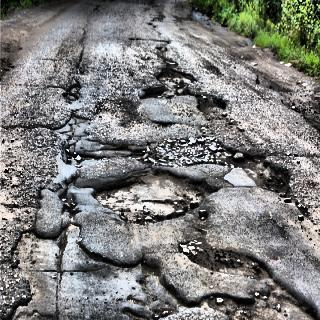alligator-crack: (160, 136, 211, 162)
crack: (68, 11, 114, 71), (4, 63, 56, 104), (4, 114, 49, 145)
pothole: (12, 201, 165, 320), (92, 168, 219, 216), (176, 233, 288, 279), (201, 277, 319, 320), (223, 146, 302, 207), (148, 62, 201, 106), (187, 94, 240, 120), (53, 100, 89, 132), (140, 35, 187, 59), (144, 9, 167, 36), (56, 80, 86, 100)
